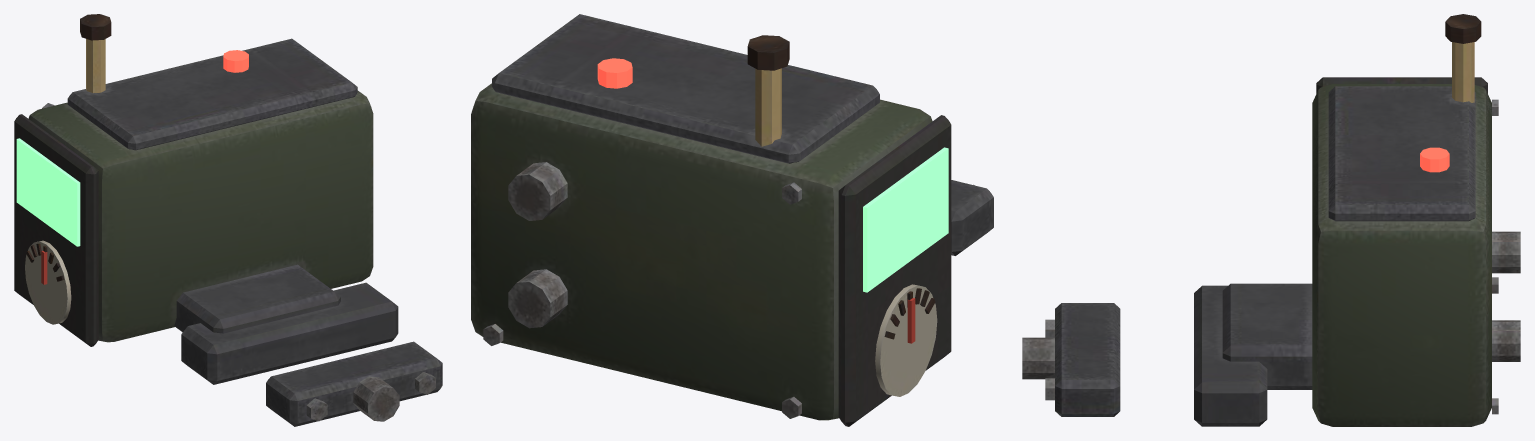
The model's file is heartbeat_counter.glb.
The picture shows the model from 3 angles, left to right: view 1: azimuth 30°, elevation 25°; view 2: azimuth 150°, elevation 25°; view 3: azimuth 270°, elevation 25°; orthographic projection. The views are drawn at different scales.
Visible parts, largest first — view 1: heartbeat_counter, Screen, Pulse; view 2: heartbeat_counter, Screen, Pulse; view 3: heartbeat_counter, Pulse.
Boxes of the visible parts, left/top/right/bottom form: heartbeat_counter: left=14, top=14, right=442, bottom=426; Screen: left=16, top=138, right=80, bottom=246; Pulse: left=223, top=50, right=248, bottom=72; heartbeat_counter: left=471, top=14, right=993, bottom=426; Screen: left=863, top=147, right=948, bottom=292; Pulse: left=597, top=58, right=632, bottom=88; heartbeat_counter: left=1022, top=14, right=1520, bottom=426; Pulse: left=1420, top=147, right=1449, bottom=172.
Size of the model in its own units: 0.0466 by 0.0417 by 0.061.
4 materials, 1 textured.
